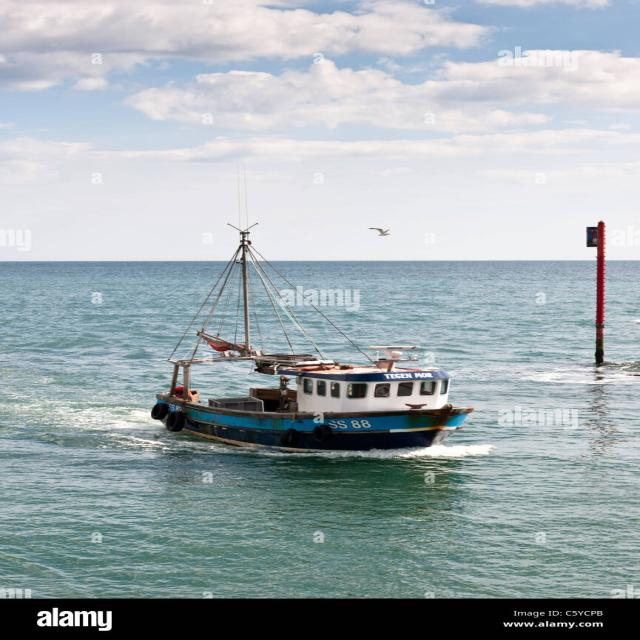Fishing Boat: (56, 208, 516, 501)
